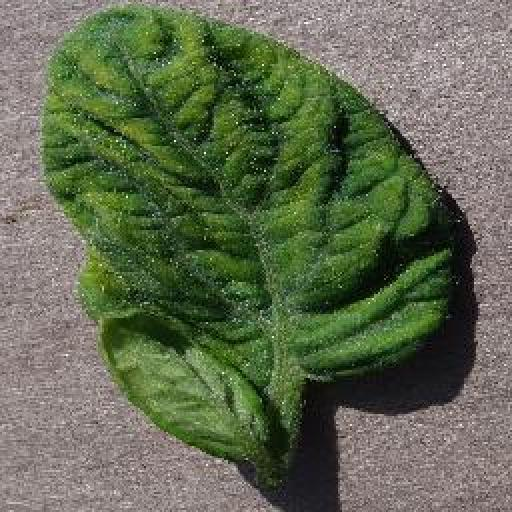Yellow Leaf Curl Virus: (42, 4, 462, 472)
